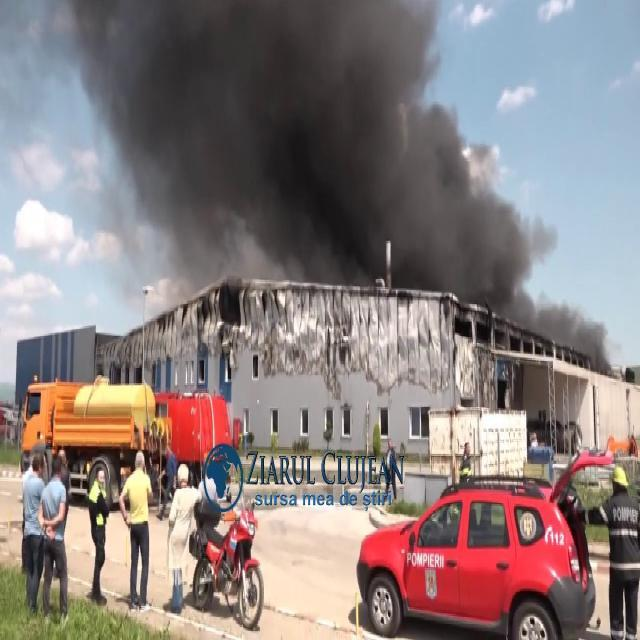Smoke: (82, 1, 544, 321)
